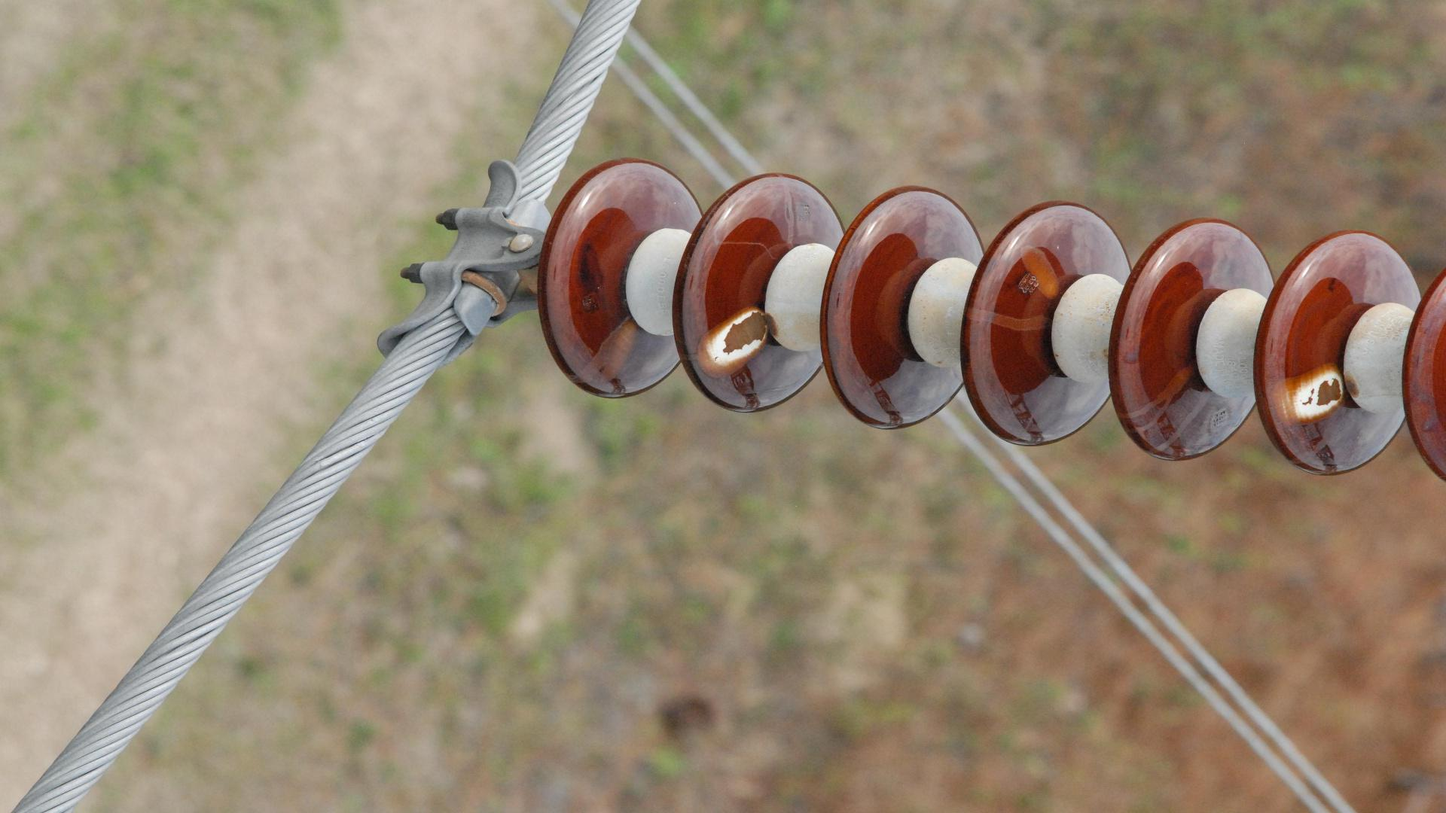insulator: (532, 154, 1446, 489)
insulator_flashover: (695, 306, 772, 382), (572, 315, 642, 391), (1270, 361, 1347, 430), (1016, 240, 1069, 299)
